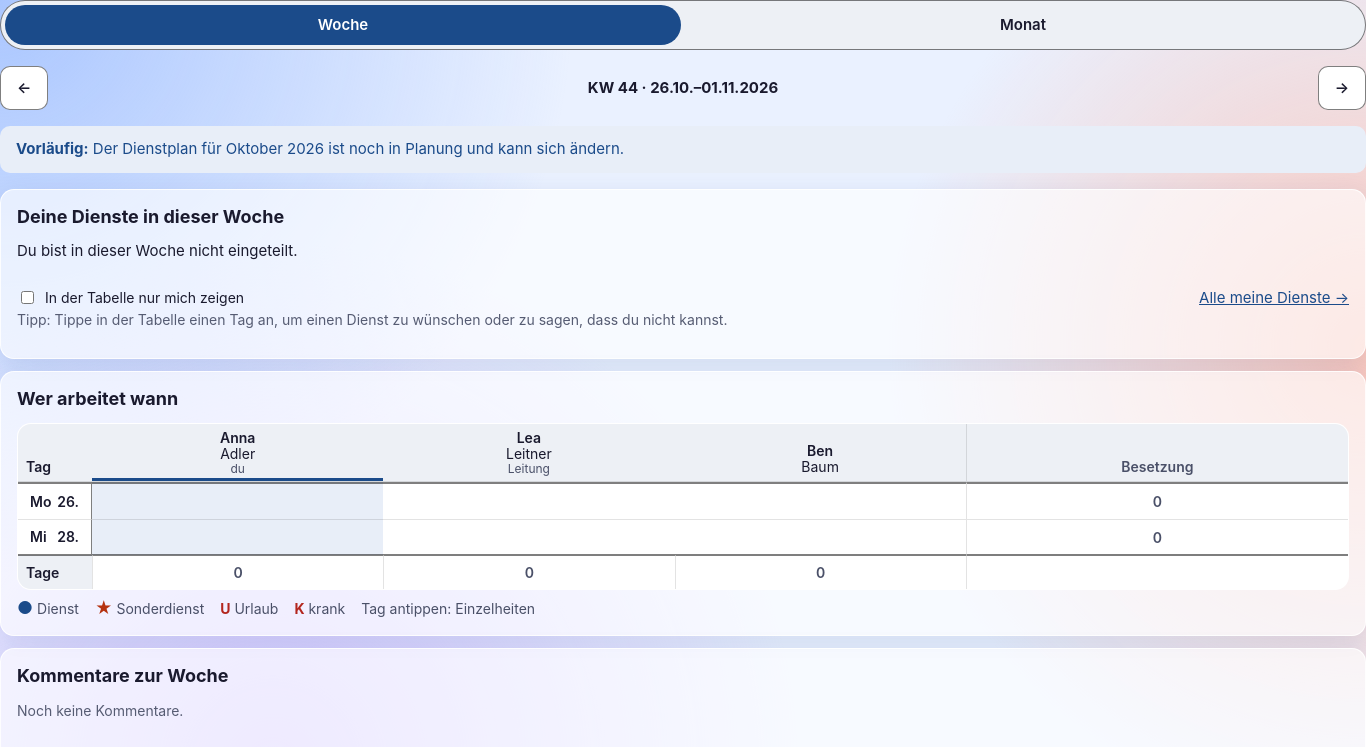
Test: Dienstplan: Anzeige › „nur mich zeigen“ blendet die anderen Zeilen aus
The width and height of the screenshot is (1366, 747).
Expected: the text "KW 44 · 26.10.–01.11.2026" is shown, [588,78,778,97]
Click the button "→": (1342, 88) [1318,66,1365,110]
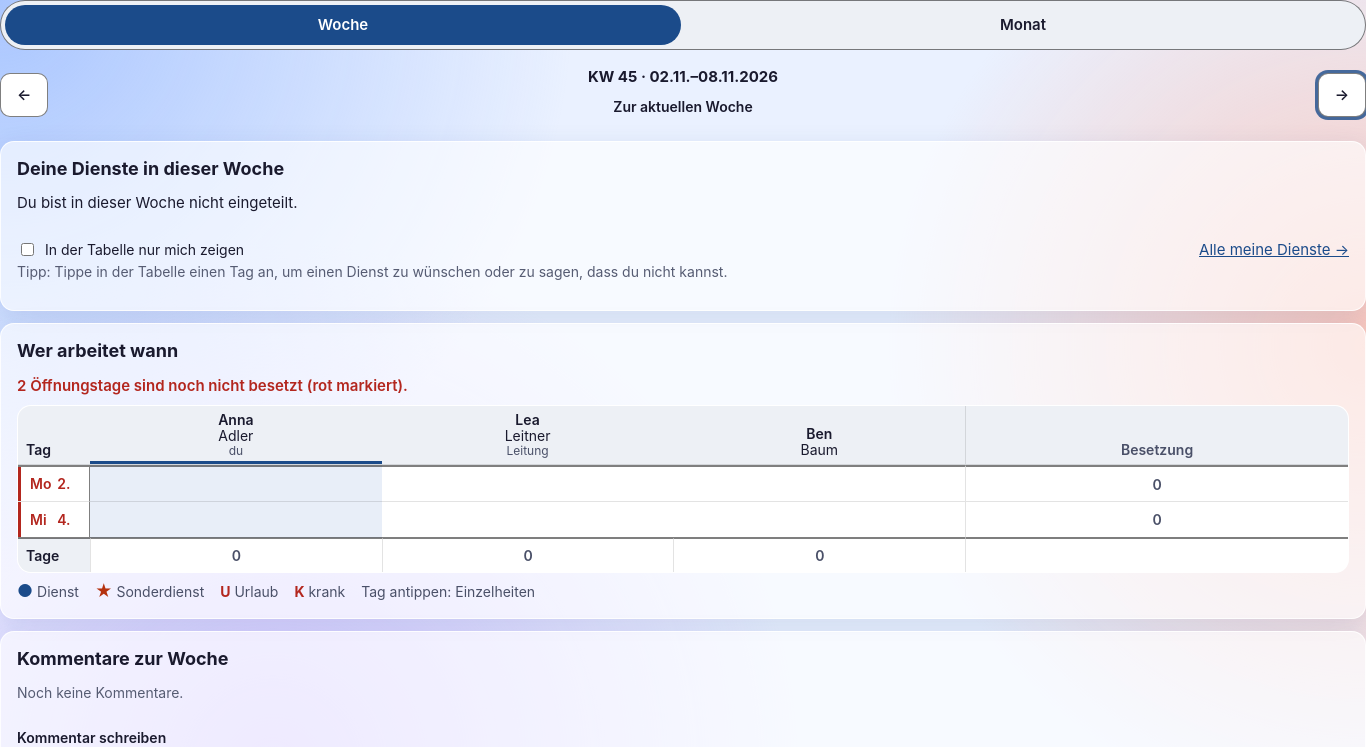
Click the checkbox labelled "In der Tabelle nur mich zeigen": (28, 250) [21,243,34,256]
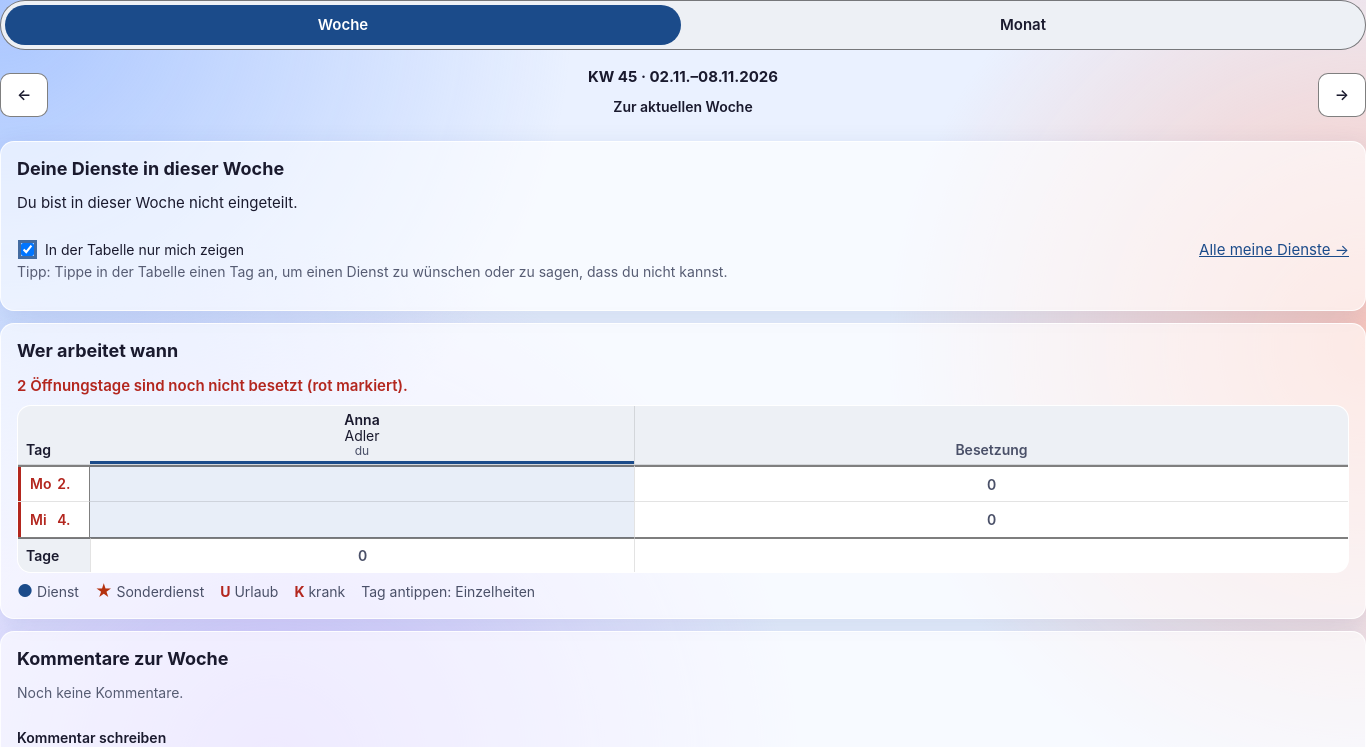
Now the text "Ben Baum" is gone
